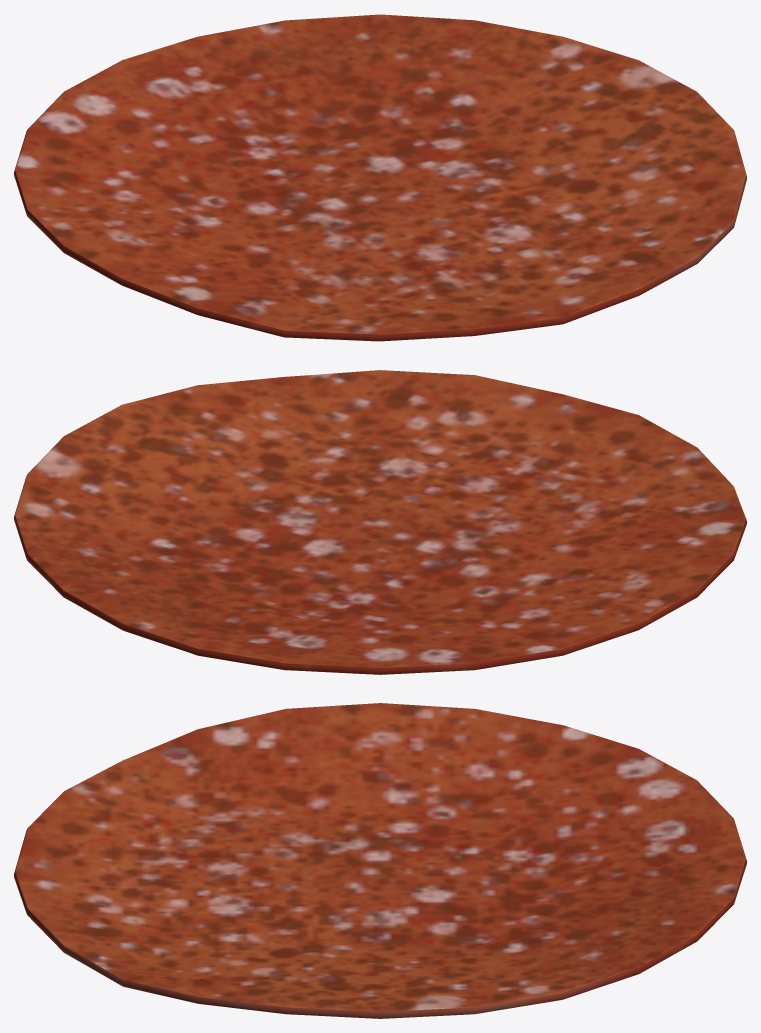
File: Pepperoni.fbx
3 views of the same model, one above another, from view 1: azimuth 30°, elevation 25°; view 2: azimuth 150°, elevation 25°; view 3: azimuth 270°, elevation 25° (orthographic).
Visible parts, largest first — view 1: pepperoni; view 2: pepperoni; view 3: pepperoni.
Part boxes in pixels (box(x1,y1,x2,y2)): pepperoni: box(14, 14, 746, 341); pepperoni: box(14, 370, 746, 674); pepperoni: box(14, 703, 746, 1018).
Bounding box in the file's own units: 0.1002 × 0.00475 × 0.1002.
1 material, 1 textured.
